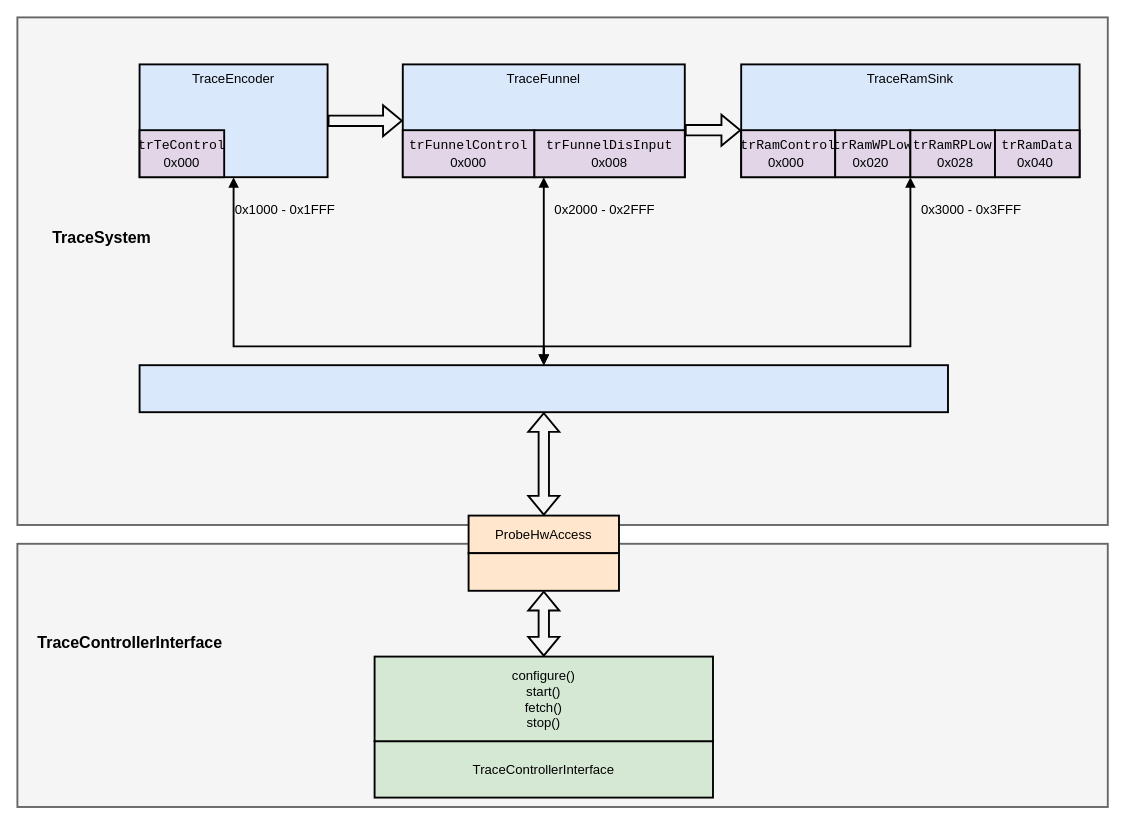
This 1124x823 diagram has some shape labels left out. The shapes that lost their labels are listed below. From the top down, each one's centre as x and y in pixels, then its label:
At (543,388): "Bus".
At (543,571): "ReadMemory() WriteMemory()".
